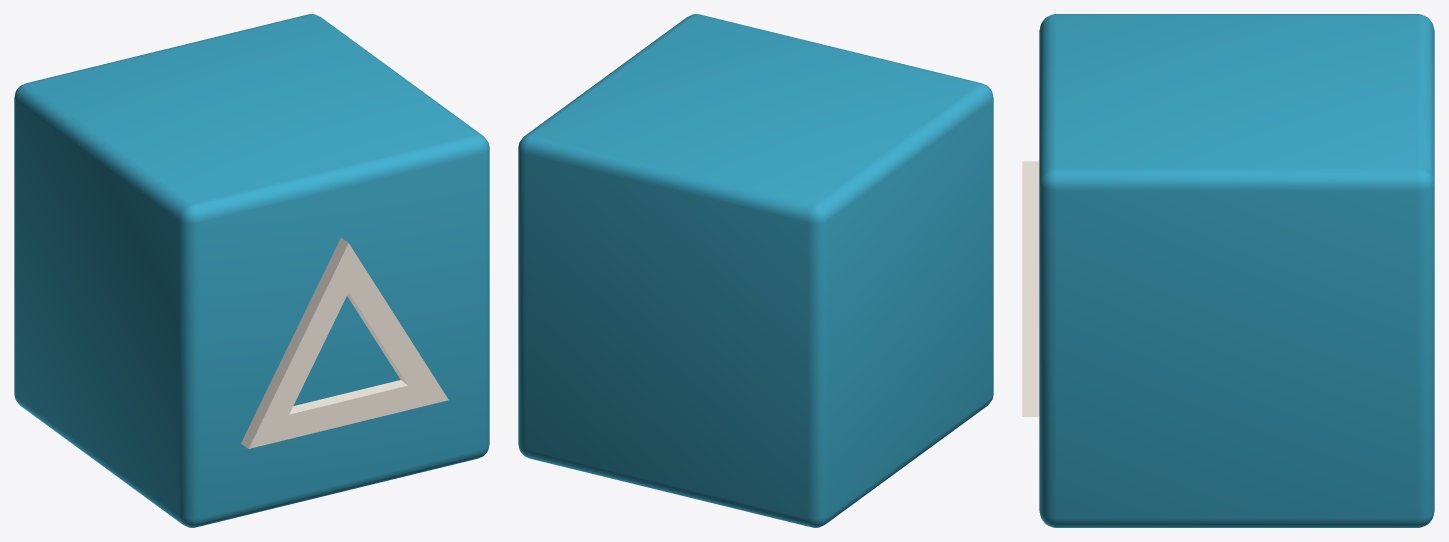
The model's file is Icons_A.FBX.
3 renders of one model, left to right at view 1: azimuth 30°, elevation 25°; view 2: azimuth 150°, elevation 25°; view 3: azimuth 270°, elevation 25°, orthographic. The views are drawn at different scales.
Parts seen in each view (by area): view 1: Icons_A; view 2: Icons_A; view 3: Icons_A.
Boxes of the visible parts, x1,y1,x2,y2 form: Icons_A: (14, 14, 489, 527); Icons_A: (518, 14, 993, 527); Icons_A: (1022, 14, 1434, 527).
Bounding box in the file's own units: 46.56 × 46.56 × 48.56.
